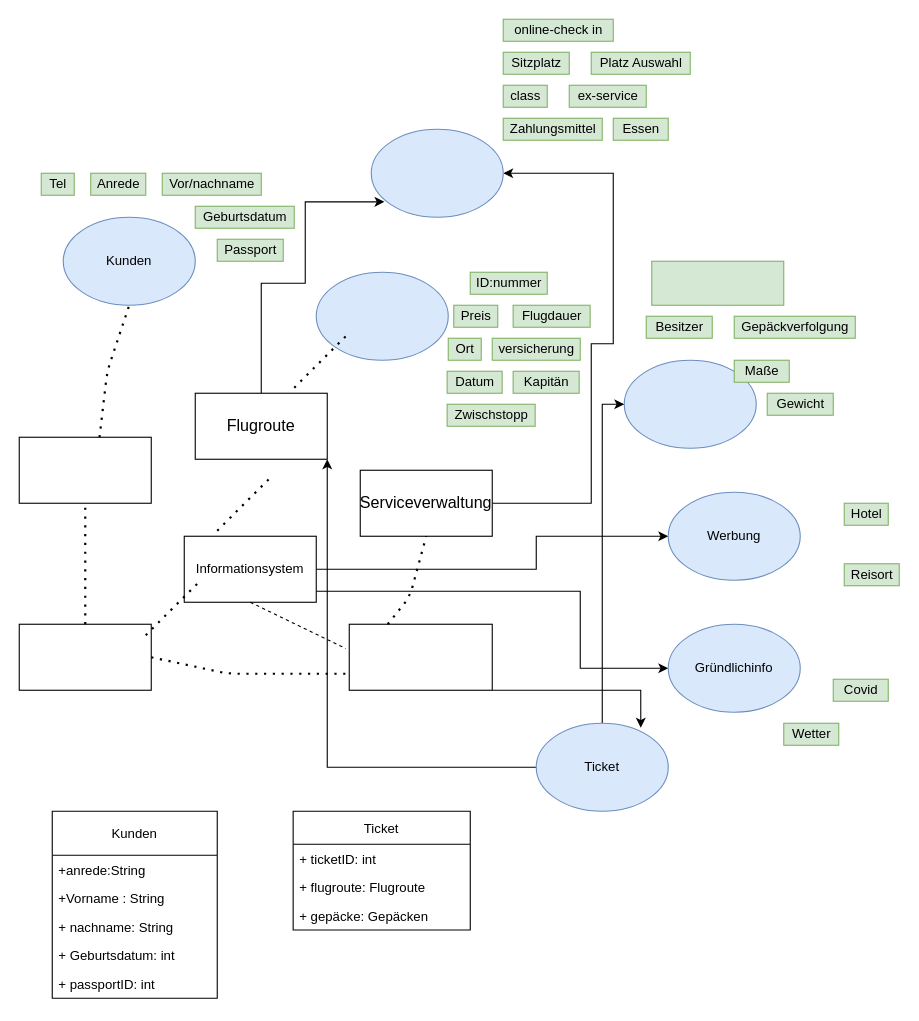
Some shapes in this 919 by 1021 pixel diagram are drawn without their labels. The centre of each missing label's shape, as x and y in pixels:
"Flugbuchungssystem" belongs at (x=84, y=656).
"Flugzeug" belongs at (x=381, y=315).
"Gepäcken" belongs at (x=689, y=403).
"Kundenverwaltung" belongs at (x=84, y=469).
"Sondern(Lebende, zerbrechlich)" belongs at (x=717, y=282).
"Ticketverwaltung" belongs at (x=420, y=656).
"Unternehmen/Firma" belongs at (x=436, y=172).
